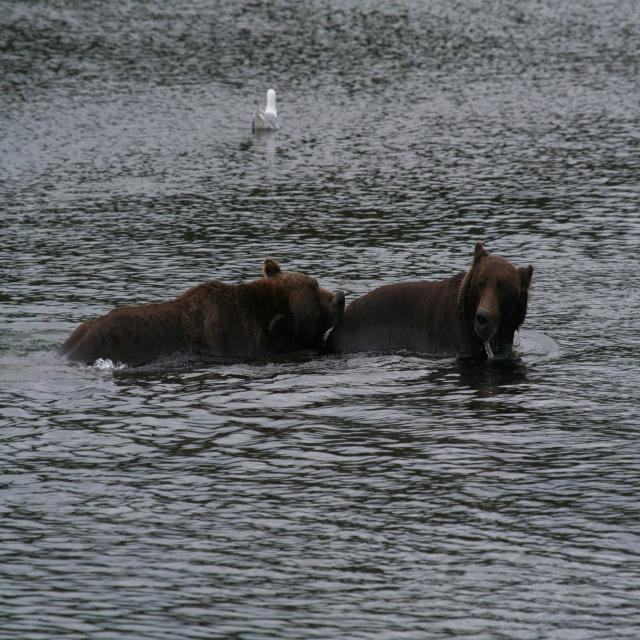bear face: (74, 258, 346, 365), (346, 239, 534, 349)
